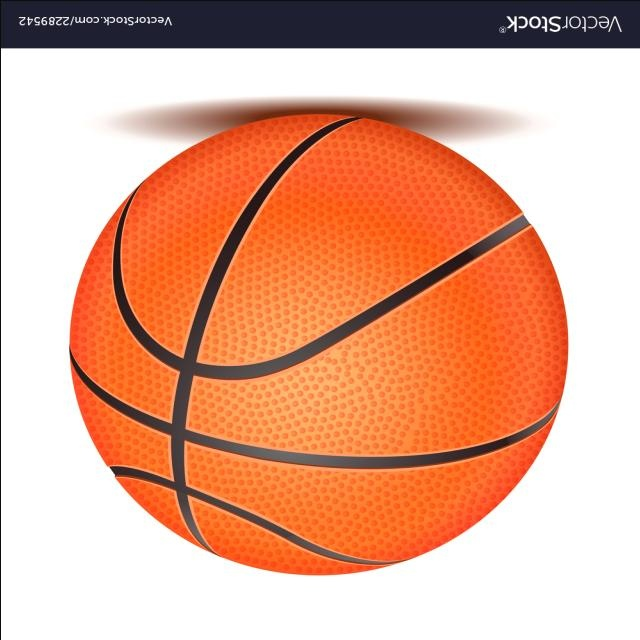agrume: (0, 109, 587, 550)
